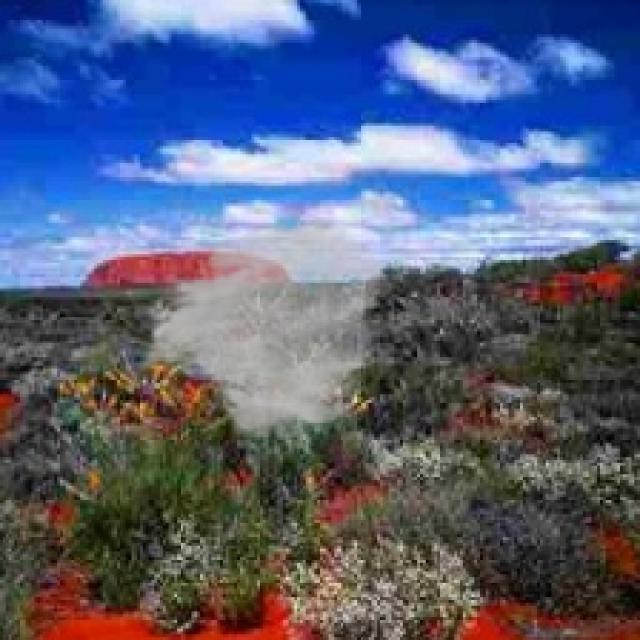smoke: (132, 217, 394, 443)
